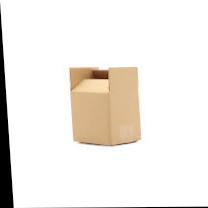cube: (67, 80, 141, 146)
